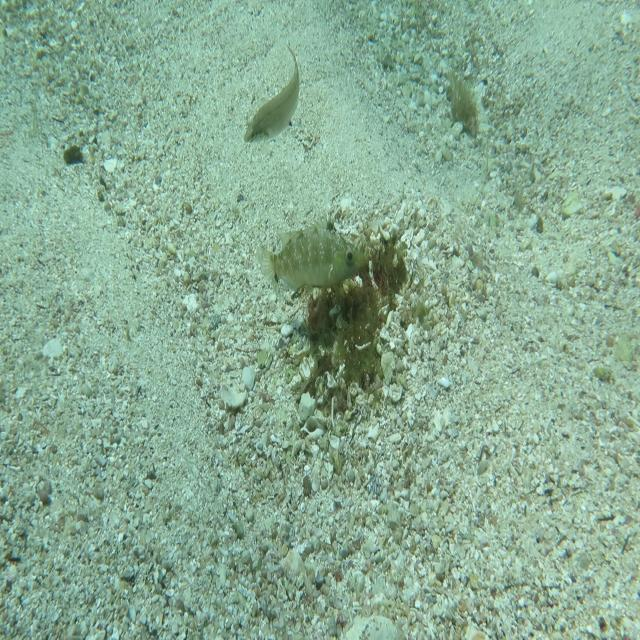FAN: (254, 210, 366, 294)
core_nest: (350, 253, 390, 291)
female: (243, 44, 301, 145)
nest: (287, 214, 416, 427)
vegetation: (446, 71, 479, 142), (64, 143, 86, 168)
